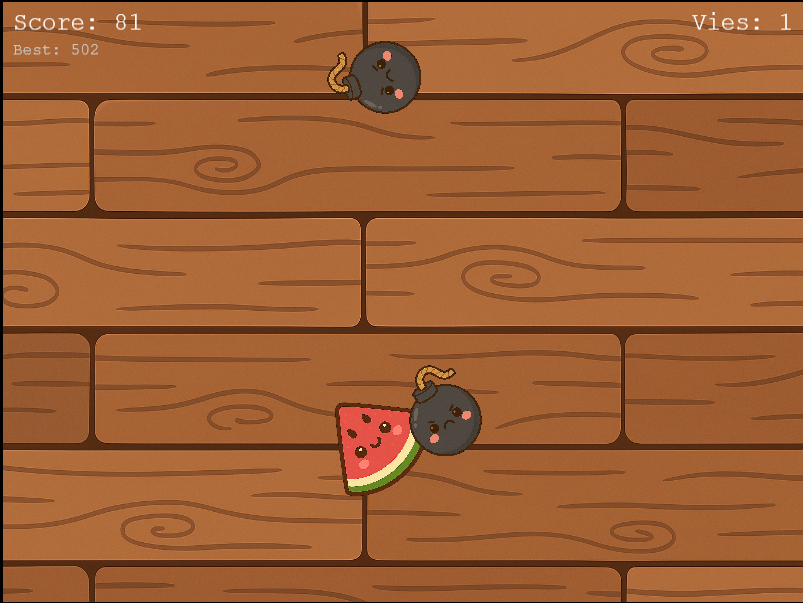bomb: (316, 26, 430, 140), (402, 361, 501, 460)
fruit: (328, 390, 435, 497)
